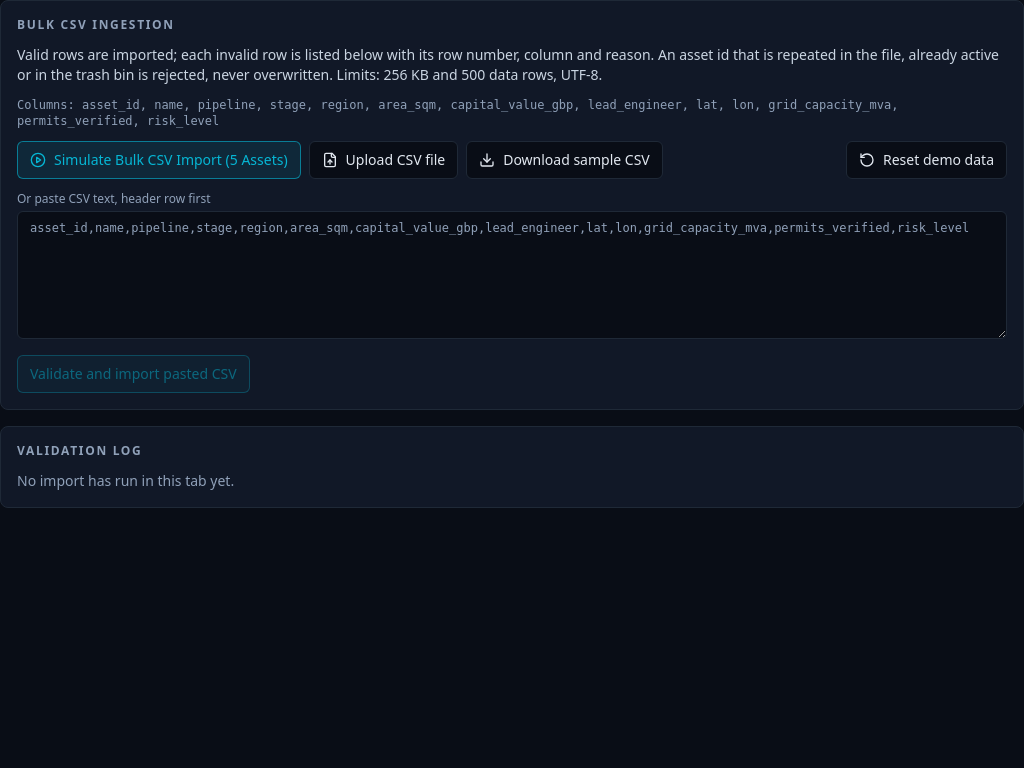
Scenario: IngestView › runs the one-click demo: fetches the sample batch, imports it and logs the result
Click the button "Simulate Bulk CSV Import (5 Assets)". click: [159, 160]
box: [17, 141, 301, 179]
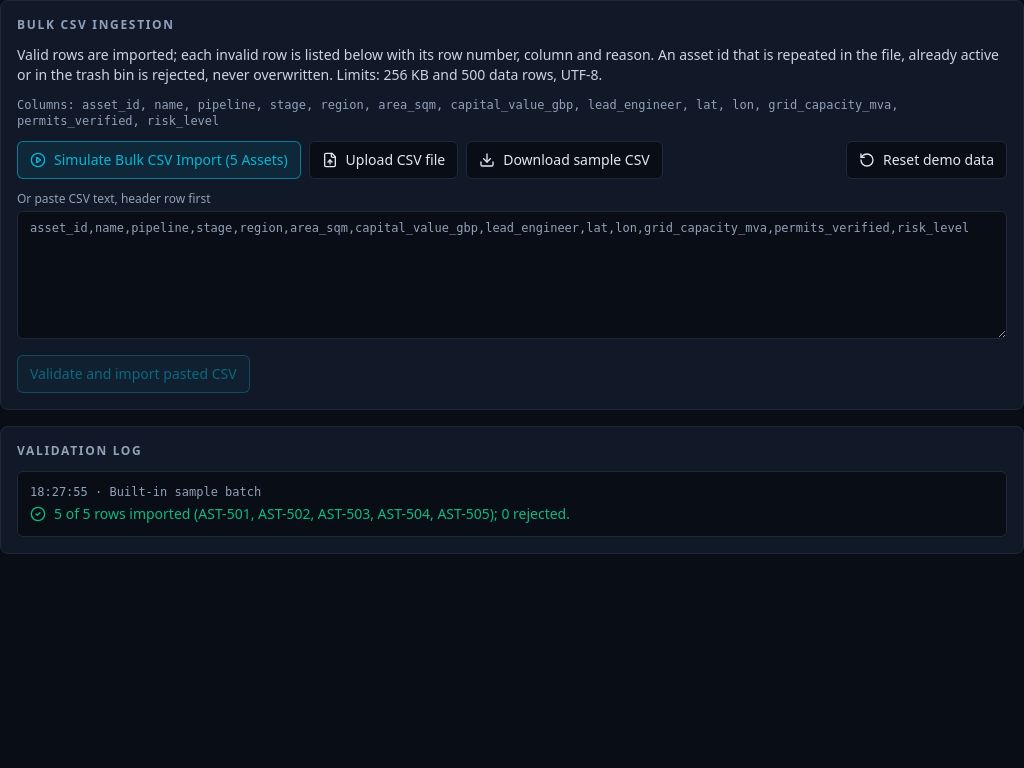
Result: the list named "Validation log" shows "5 of 5 rows imported (AST-501, AST-502, AST-503, AST-504, AST-505); 0 rejected." at [17, 471, 1007, 537]
Result: the list named "Validation log" shows "Built-in sample batch" at [110, 485, 261, 499]
